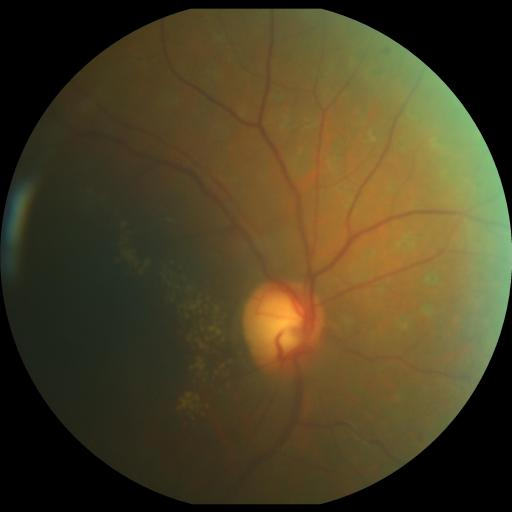Optic Cup: (261, 292, 308, 359)
Optic Disc: (241, 278, 323, 375)
